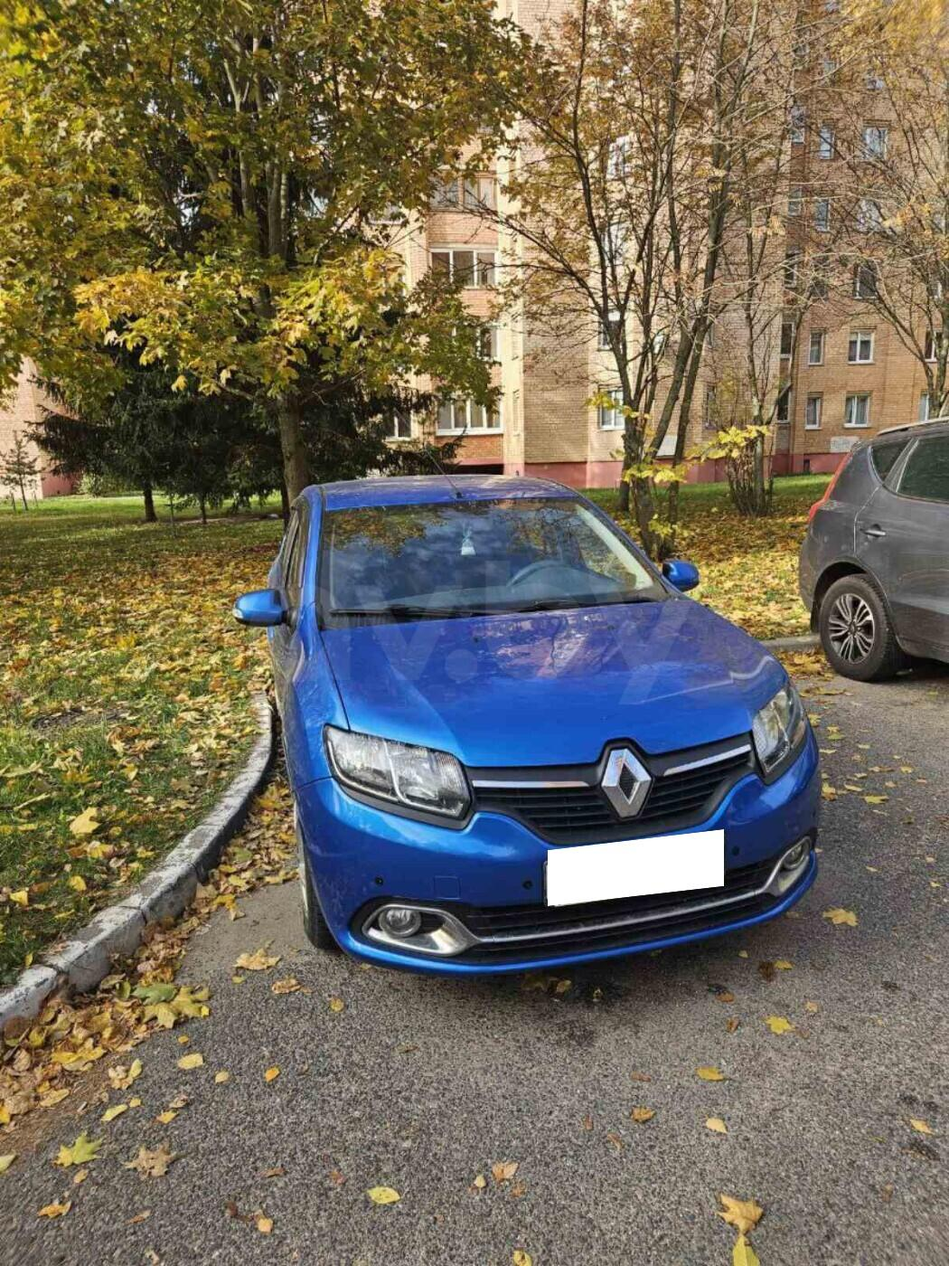Logan_2013-2018: (235, 458, 828, 984)
